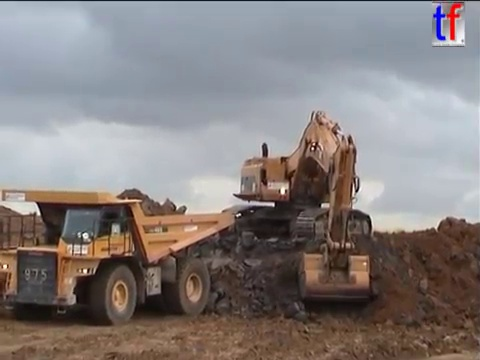excavator: (218, 107, 375, 307)
truck: (1, 186, 238, 327)
